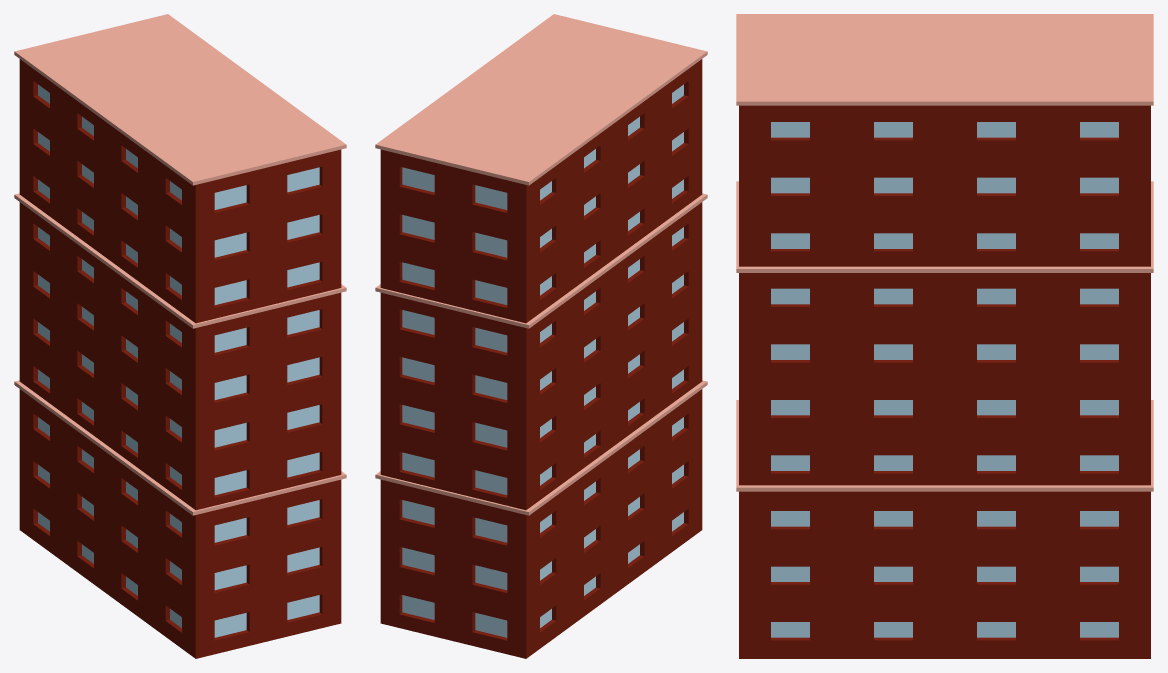
Rendered from building.glb.
3 renders of one model, left to right at view 1: azimuth 30°, elevation 25°; view 2: azimuth 150°, elevation 25°; view 3: azimuth 270°, elevation 25°, orthographic. The views are drawn at different scales.
Visible parts, largest first — view 1: Cube; view 2: Cube; view 3: Cube.
Part boxes in pixels (<box>): Cube: <box>14,14,346,658</box>; Cube: <box>375,14,707,658</box>; Cube: <box>736,14,1153,658</box>.
Bounding box in the file's own units: 2.11 × 6.29 × 4.25.
1 material, 1 textured.
